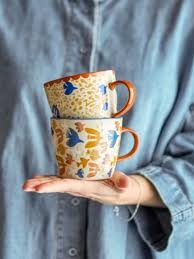mug: (31, 97, 150, 187), (26, 66, 159, 138)
